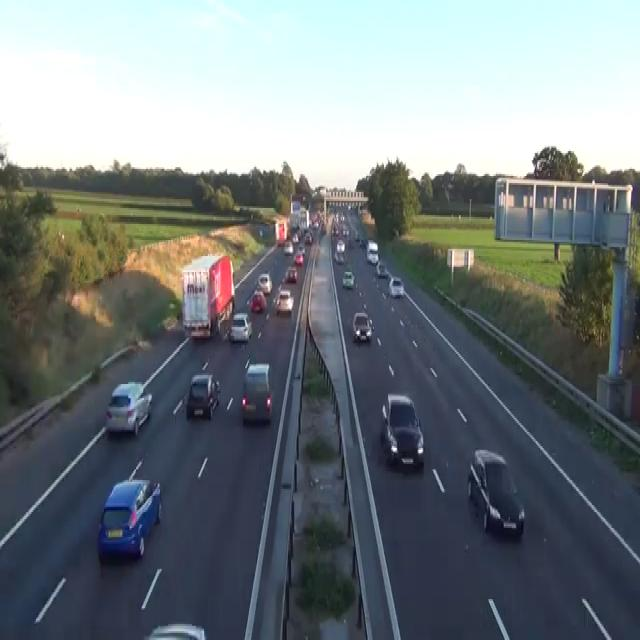Car: (97, 476, 162, 562), (467, 448, 525, 537), (381, 393, 424, 467), (105, 380, 152, 436), (241, 357, 272, 423), (185, 372, 220, 419), (143, 622, 206, 638), (228, 311, 252, 343), (352, 311, 372, 341), (275, 290, 294, 314), (249, 290, 266, 311), (388, 275, 404, 297), (256, 272, 272, 293), (342, 270, 355, 288), (284, 265, 297, 283), (375, 262, 388, 276), (283, 240, 293, 254), (334, 249, 344, 263), (294, 251, 303, 265), (336, 238, 345, 252), (331, 222, 339, 236), (304, 231, 312, 244), (292, 231, 299, 244), (297, 244, 305, 254), (359, 238, 366, 249), (342, 226, 349, 236), (348, 238, 354, 249), (354, 229, 359, 240), (259, 230, 262, 237)
Truck: (181, 252, 235, 340), (274, 217, 289, 245), (298, 208, 309, 231)
